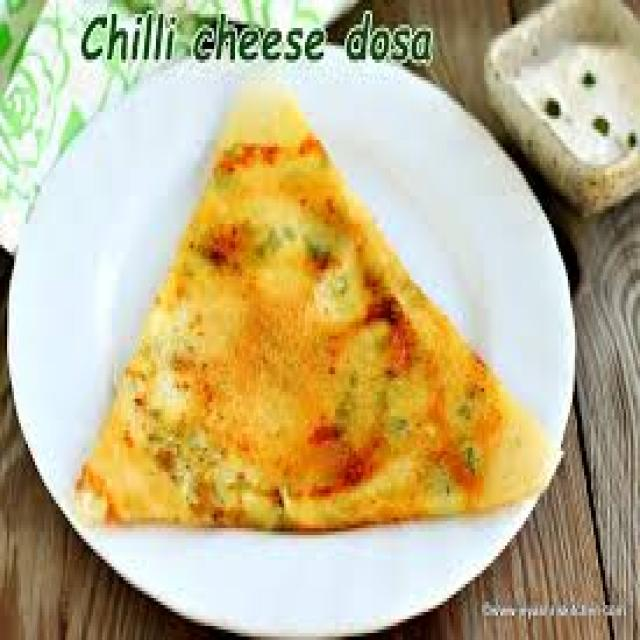DOSA: (78, 55, 575, 523)
